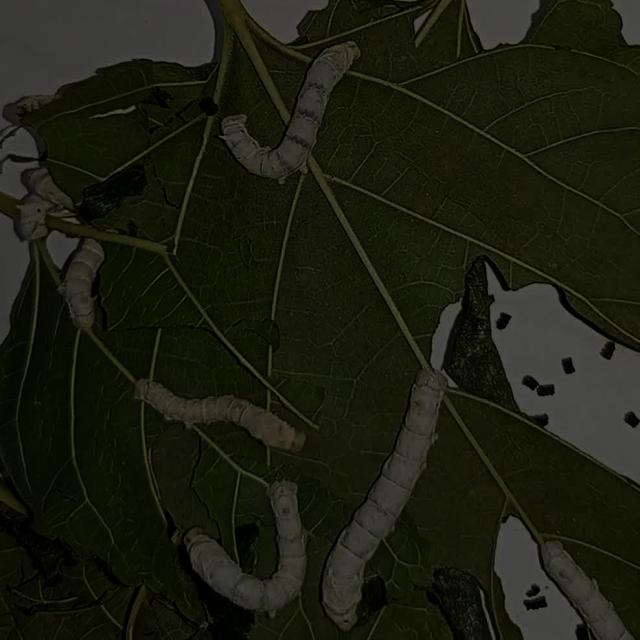Healthy: (0, 60, 148, 342), (321, 346, 441, 632), (201, 22, 385, 190), (162, 473, 318, 629), (123, 354, 332, 466), (528, 522, 639, 640)
